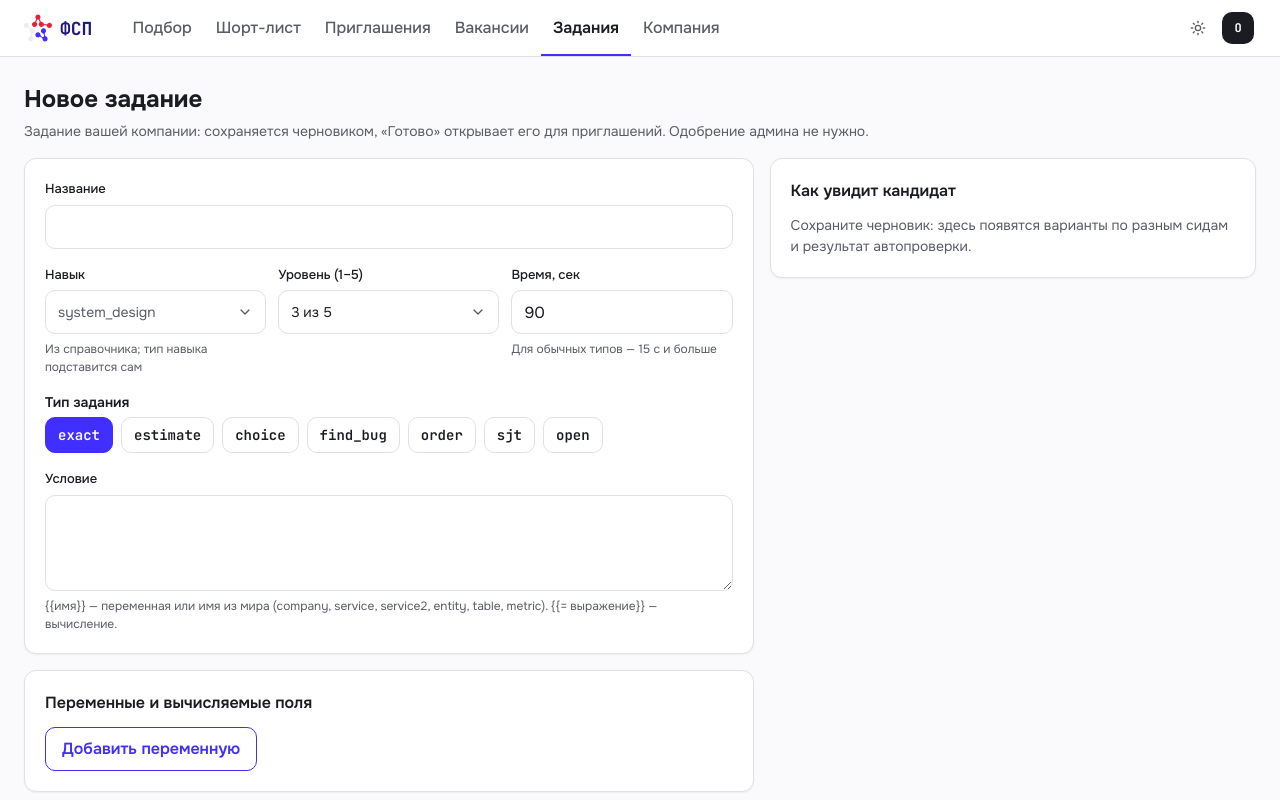
K1 конструктор › переключение типа меняет поля ключа, переменные добавляются
What coordinates should you click on to do the following:
click the radio button with test id "constructor-kind-choice"
I would click on:
 (260, 435)
Its box is [222,417,299,453].
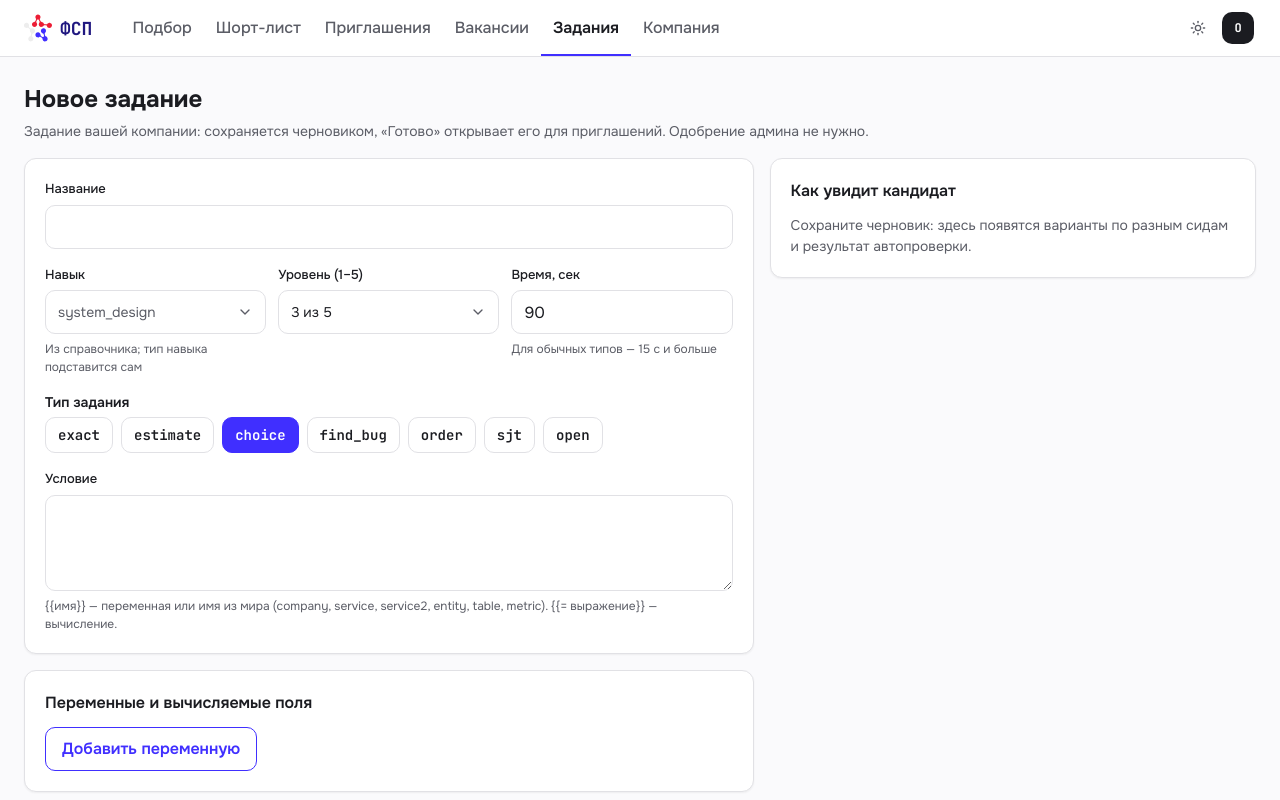
What coordinates should you click on to do the following:
click the button with test id "constructor-var-add"
I would click on:
 (151, 748)
Its box is [45,726,257,770].
(page scrolled)
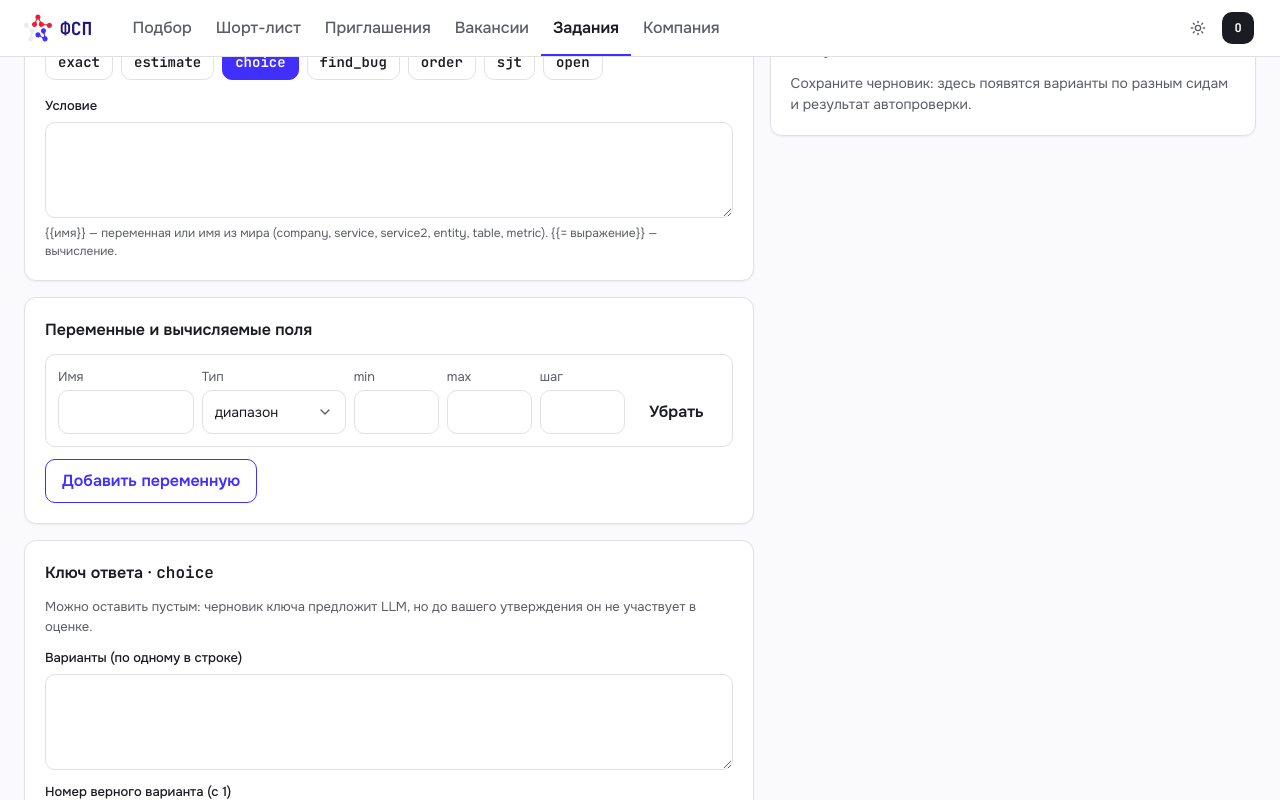
Check: the element with test id "constructor-var-1" is shown, box [45,354,733,447]
